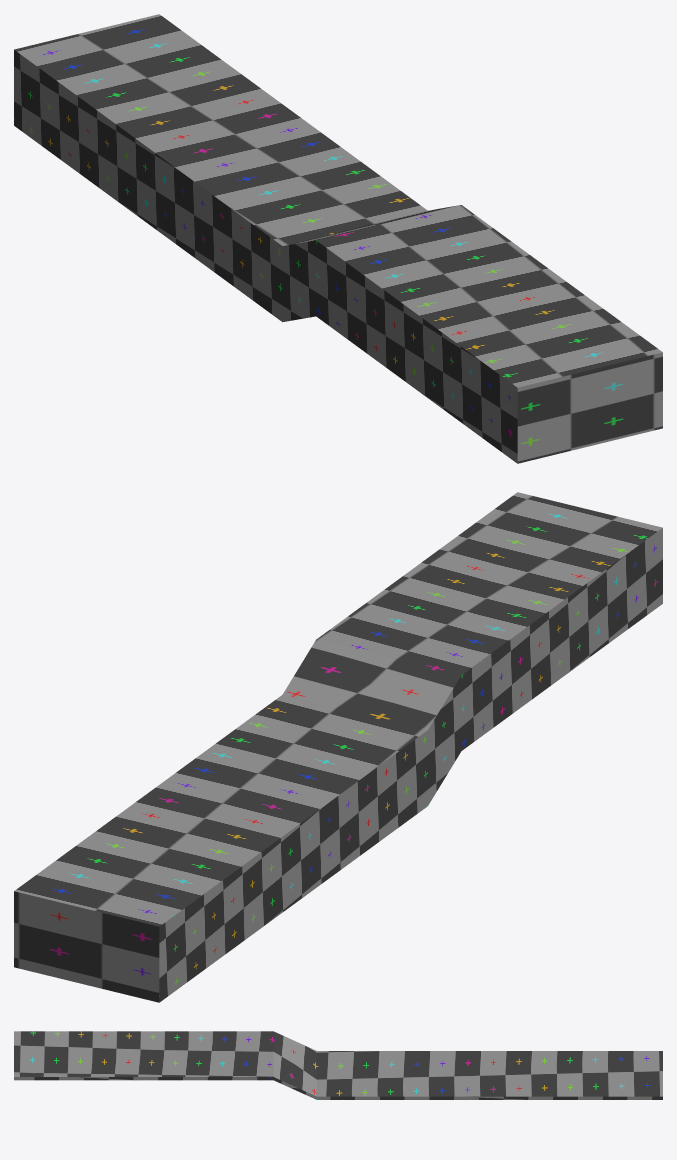
The model's file is meshCollider_prototype_interior_exit_basement.fbx.
3 views of the same model, one above another, from view 1: azimuth 30°, elevation 25°; view 2: azimuth 150°, elevation 25°; view 3: azimuth 270°, elevation 25° (orthographic). The views are drawn at different scales.
Parts seen in each view (by area): view 1: collider_exit_basement; view 2: collider_exit_basement; view 3: collider_exit_basement.
Part boxes in pixels (x1=…): collider_exit_basement: x1=14, y1=14, x2=662, y2=463; collider_exit_basement: x1=14, y1=492, x2=662, y2=1002; collider_exit_basement: x1=14, y1=1031, x2=662, y2=1099.
Bounding box in the file's own units: 500 × 350 × 3000.
